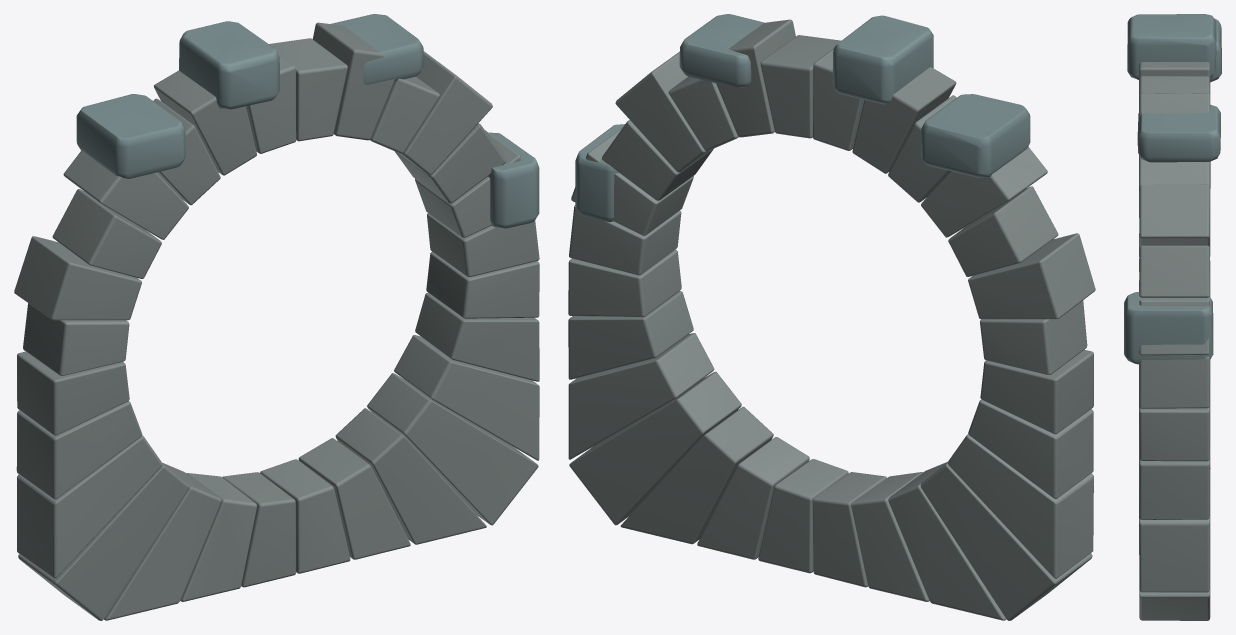
The model's file is ring.glb.
3 renders of one model, left to right at view 1: azimuth 30°, elevation 25°; view 2: azimuth 150°, elevation 25°; view 3: azimuth 270°, elevation 25°, orthographic. The views are drawn at different scales.
Parts seen in each view (by area): view 1: ring; view 2: ring; view 3: ring.
Part boxes in pixels (x1=…): ring: x1=14, y1=14, x2=539, y2=620; ring: x1=568, y1=14, x2=1095, y2=620; ring: x1=1124, y1=14, x2=1221, y2=620.
Bounding box in the file's own units: 8.75 × 9.12 × 1.66.
